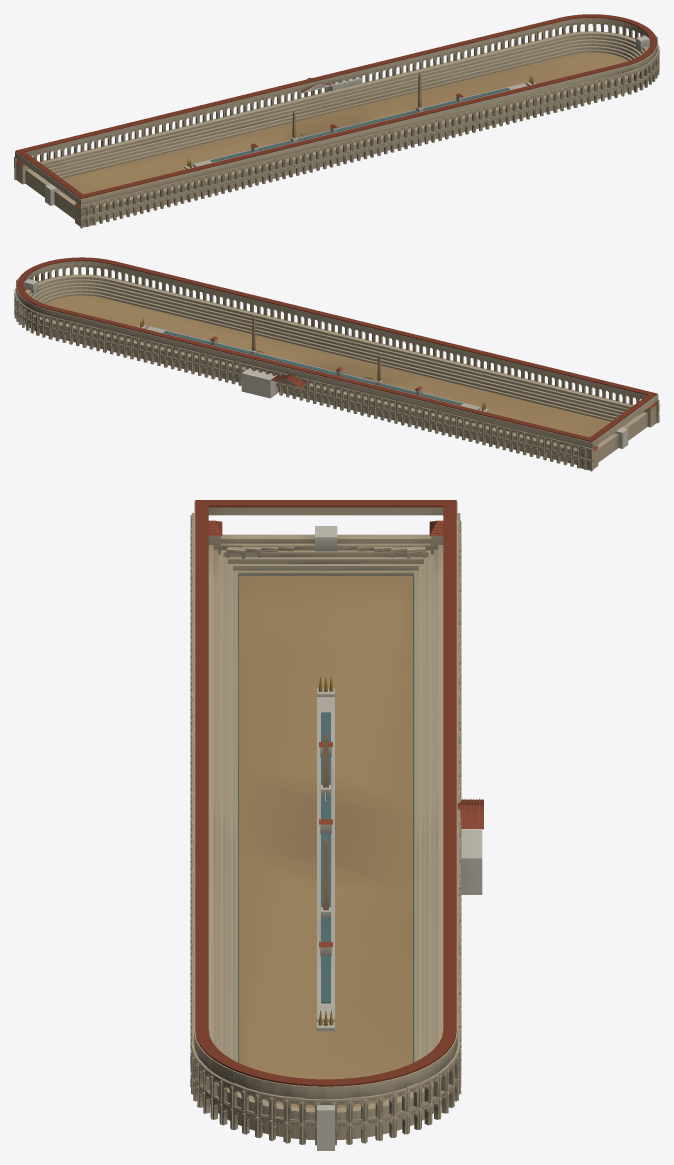
Rendered from circus-maximus-late.glb.
3 views of the same model, one above another, from view 1: azimuth 30°, elevation 25°; view 2: azimuth 150°, elevation 25°; view 3: azimuth 270°, elevation 25° (orthographic). The views are drawn at different scales.
Parts seen in each view (by area): view 1: p1_spina, p2_gates, p0_arena; view 2: p1_spina, p2_gates, p0_arena; view 3: p0_arena, p1_spina, p2_gates.
Boxes of the visible parts, x1,y1,x2,y2 form: p1_spina: [14, 22, 659, 228]; p2_gates: [15, 14, 657, 227]; p0_arena: [48, 52, 628, 205]; p1_spina: [14, 265, 659, 471]; p2_gates: [16, 257, 658, 470]; p0_arena: [45, 295, 624, 448]; p0_arena: [238, 575, 414, 1108]; p1_spina: [190, 513, 461, 1145]; p2_gates: [194, 500, 483, 1150].
Size of the model in its own units: 629 by 41.07 by 132.
